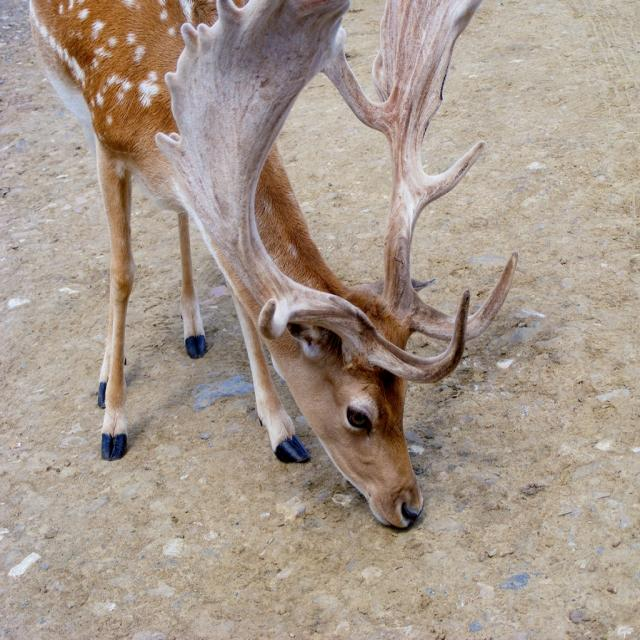Deer: (28, 0, 518, 532)
